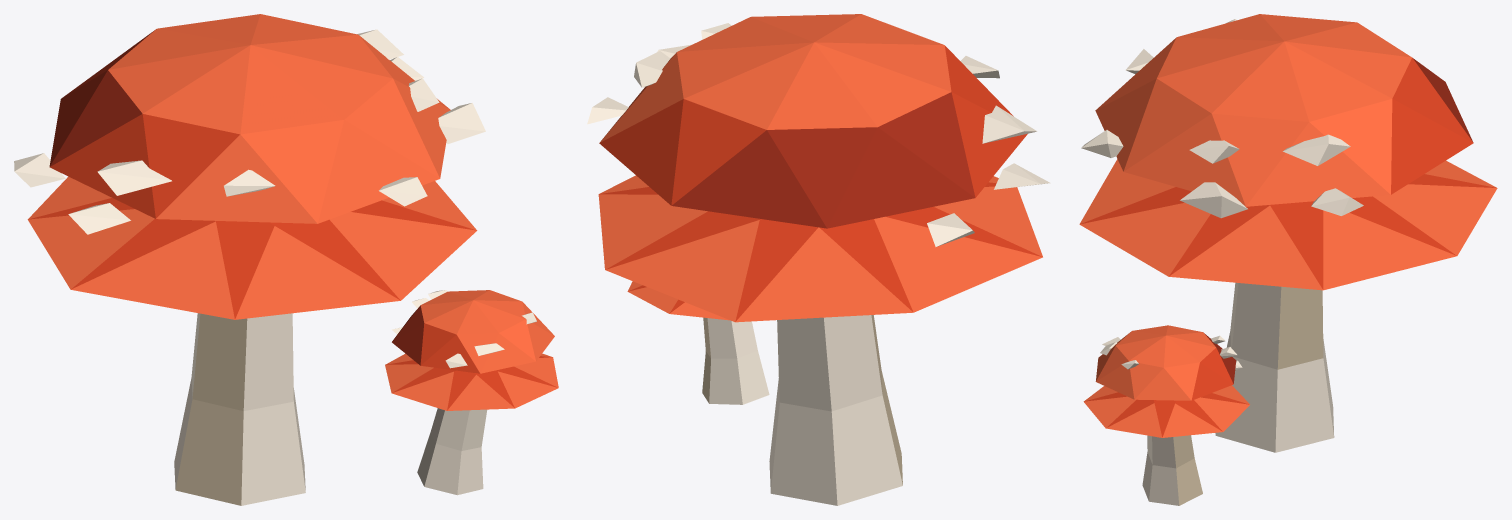
File: mushroom_red.glb
3 views of the same model, side by side, from view 1: azimuth 30°, elevation 25°; view 2: azimuth 150°, elevation 25°; view 3: azimuth 270°, elevation 25° (orthographic). The views are drawn at different scales.
Parts seen in each view (by area): view 1: mushroom_red.002; view 2: mushroom_red.002; view 3: mushroom_red.002.
Part boxes in pixels (bbox=[...]): mushroom_red.002: bbox=[14, 14, 558, 505]; mushroom_red.002: bbox=[587, 14, 1050, 505]; mushroom_red.002: bbox=[1079, 14, 1497, 505].
Bounding box in the file's own units: 0.4286 × 0.4 × 0.389.
